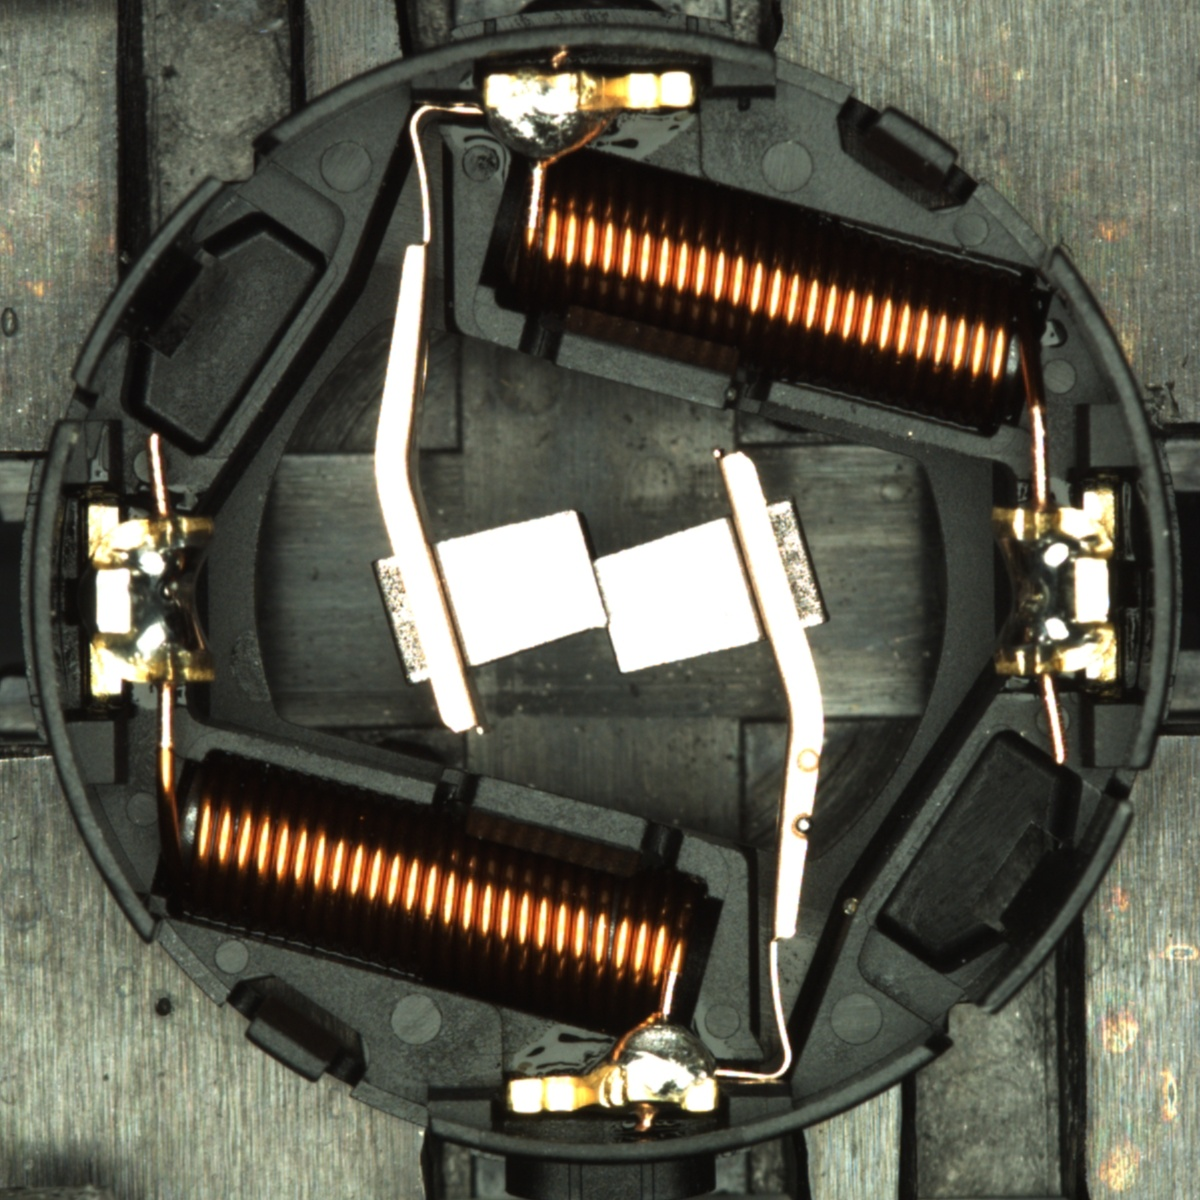1: (252, 31, 481, 255), (711, 929, 940, 1153)
2: (252, 929, 481, 1153), (711, 31, 940, 255)
3: (940, 703, 1169, 929), (23, 255, 252, 479)
4: (711, 703, 940, 929), (252, 255, 481, 479)
5: (481, 815, 711, 1041), (481, 143, 711, 367)
6: (252, 703, 481, 929), (711, 255, 940, 479)
7: (23, 703, 252, 929), (940, 255, 1169, 479)
bui_chi: (795, 816, 813, 834)
cacbon: (392, 498, 800, 685)
chau_dien: (80, 498, 221, 700), (984, 488, 1124, 687)
tay_choi: (507, 1014, 720, 1116), (482, 68, 699, 168)
thanh_de: (953, 787, 1141, 1031), (58, 163, 245, 405)
